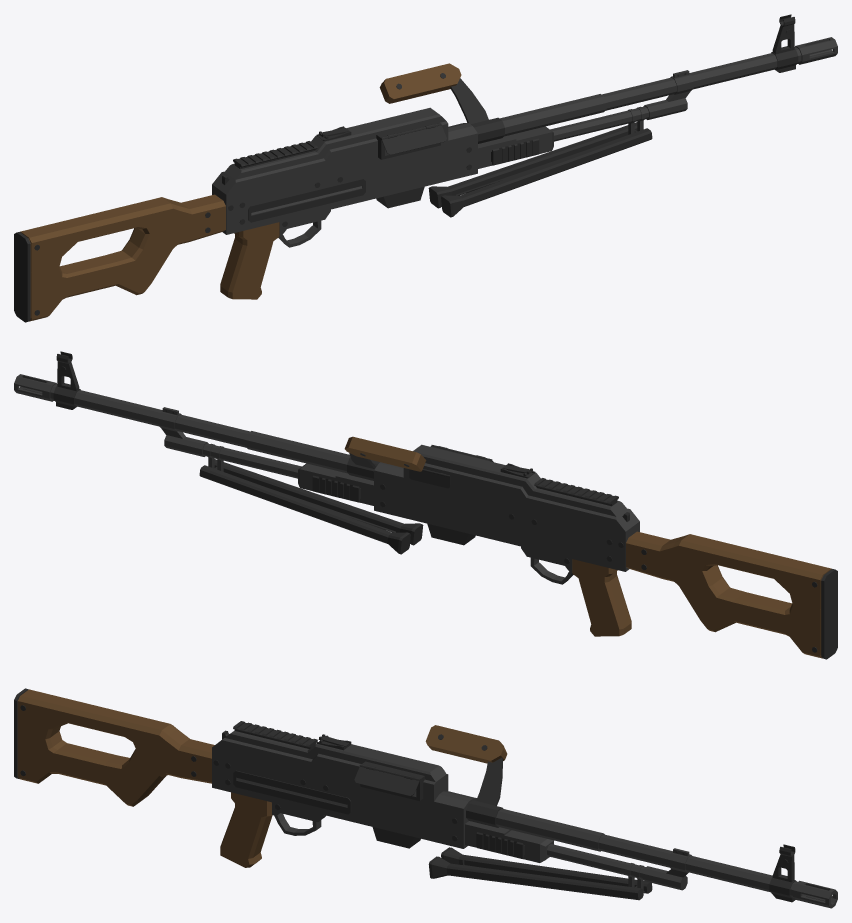
Rendered from LMG3_01.fbx.
3 renders of one model, top to bottom at view 1: azimuth 30°, elevation 25°; view 2: azimuth 150°, elevation 25°; view 3: azimuth 330°, elevation 25°, orthographic.
Parts seen in each view (by area): view 1: LMG3_01; view 2: LMG3_01; view 3: LMG3_01.
Boxes of the visible parts, bbox=[...] form: LMG3_01: bbox=[14, 14, 837, 322]; LMG3_01: bbox=[14, 351, 837, 659]; LMG3_01: bbox=[14, 688, 837, 908].
Size of the model in its own units: 1.31 by 0.2463 by 0.1301.
